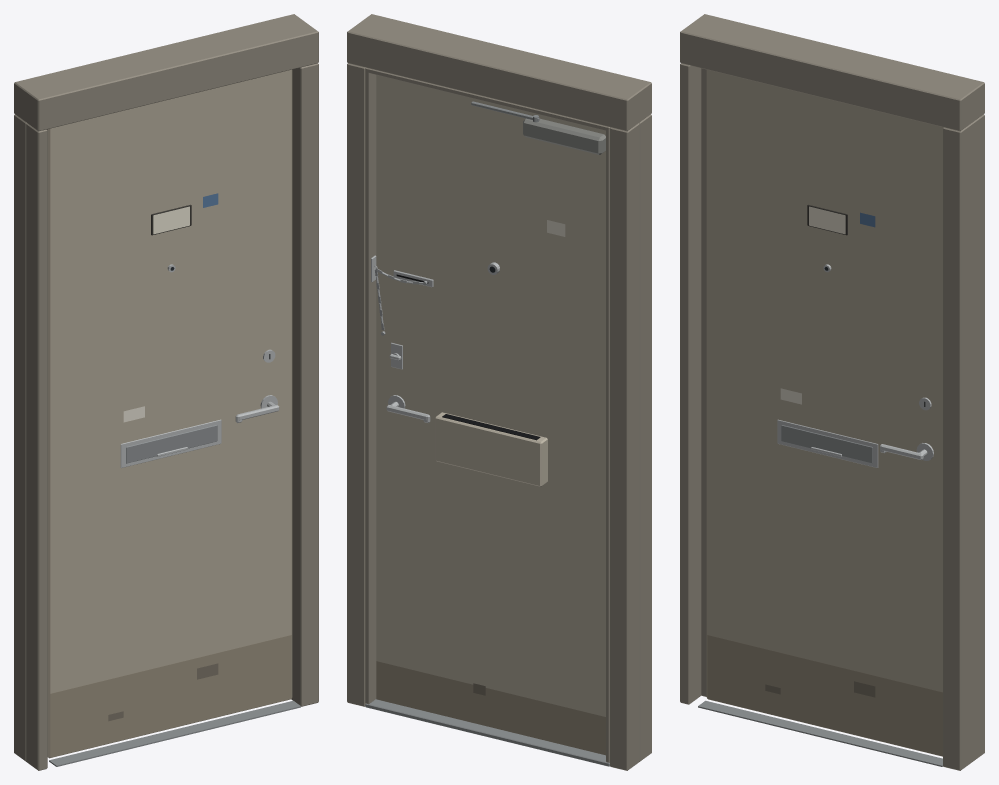
The model's file is door_entrance.glb.
3 views of the same model, side by side, from view 1: azimuth 30°, elevation 25°; view 2: azimuth 150°, elevation 25°; view 3: azimuth 330°, elevation 25° (orthographic).
Visible parts, largest first — view 1: leaf, frame; view 2: leaf, frame; view 3: leaf, frame.
Boxes of the visible parts, bbox=[...] form: leaf: bbox=[47, 69, 292, 758]; frame: bbox=[14, 14, 318, 770]; leaf: bbox=[376, 75, 605, 755]; frame: bbox=[347, 14, 651, 770]; leaf: bbox=[706, 69, 943, 756]; frame: bbox=[680, 14, 984, 770].
Bounding box in the file's own units: 0.92 × 2.1 × 0.14.
